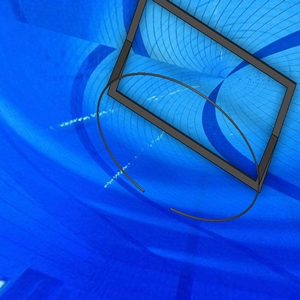circle: (96, 1, 297, 224)
